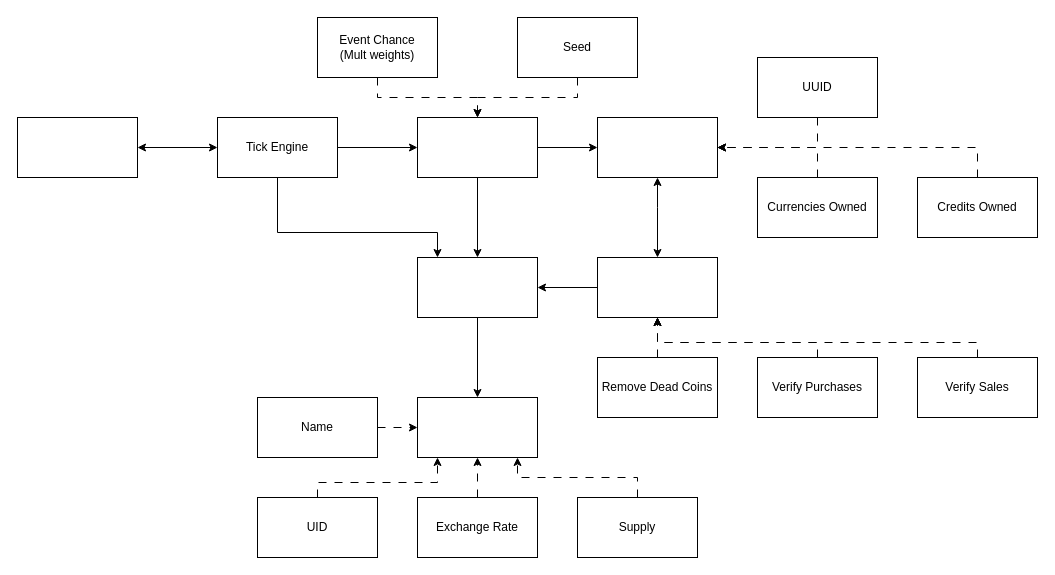
This 1055x575 diagram has some shape labels left out. The box of each missing label's shape, as (x1, y1, x2, y2) in pixels:
Currencies: (416, 396, 538, 458)
Event Director (External Forces): (416, 116, 538, 178)
Main: (16, 116, 138, 178)
Manager: (596, 256, 718, 318)
Scene: (416, 256, 538, 318)
User: (596, 116, 718, 178)
